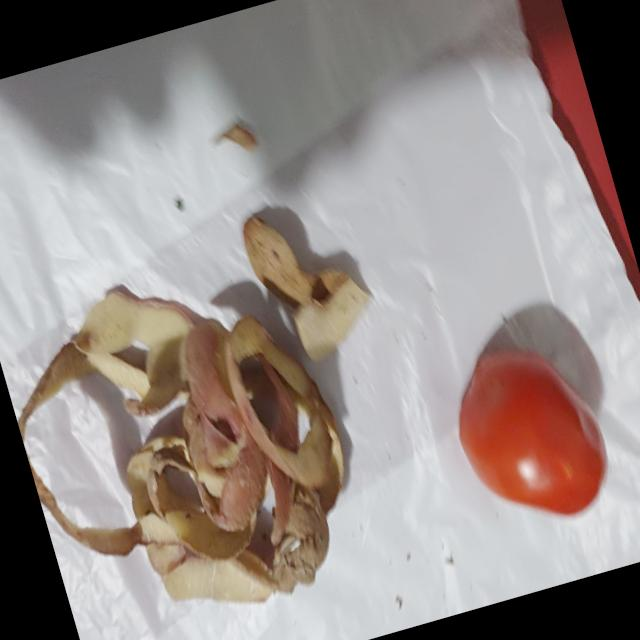organic: (0, 188, 442, 640)
